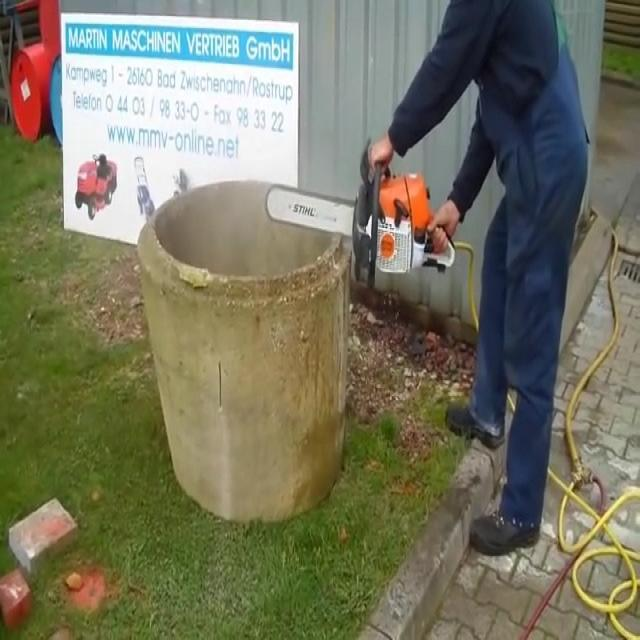Chainsaw: (254, 132, 466, 296)
